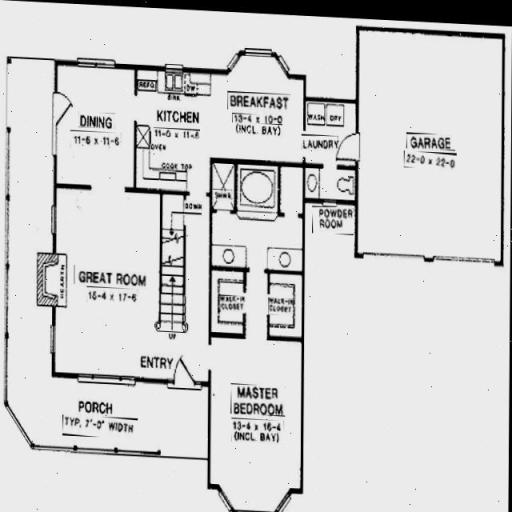Room: (61, 194, 161, 368), (57, 68, 139, 186), (226, 68, 300, 160)
bathroom: (223, 171, 288, 273)
bedroom: (219, 340, 302, 484)
garage: (360, 31, 503, 258)
kitchen: (139, 75, 213, 192)
